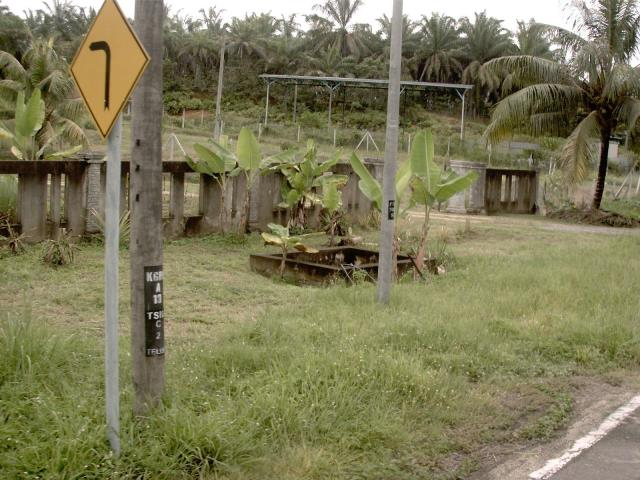traffic_sign: (60, 0, 160, 147)
